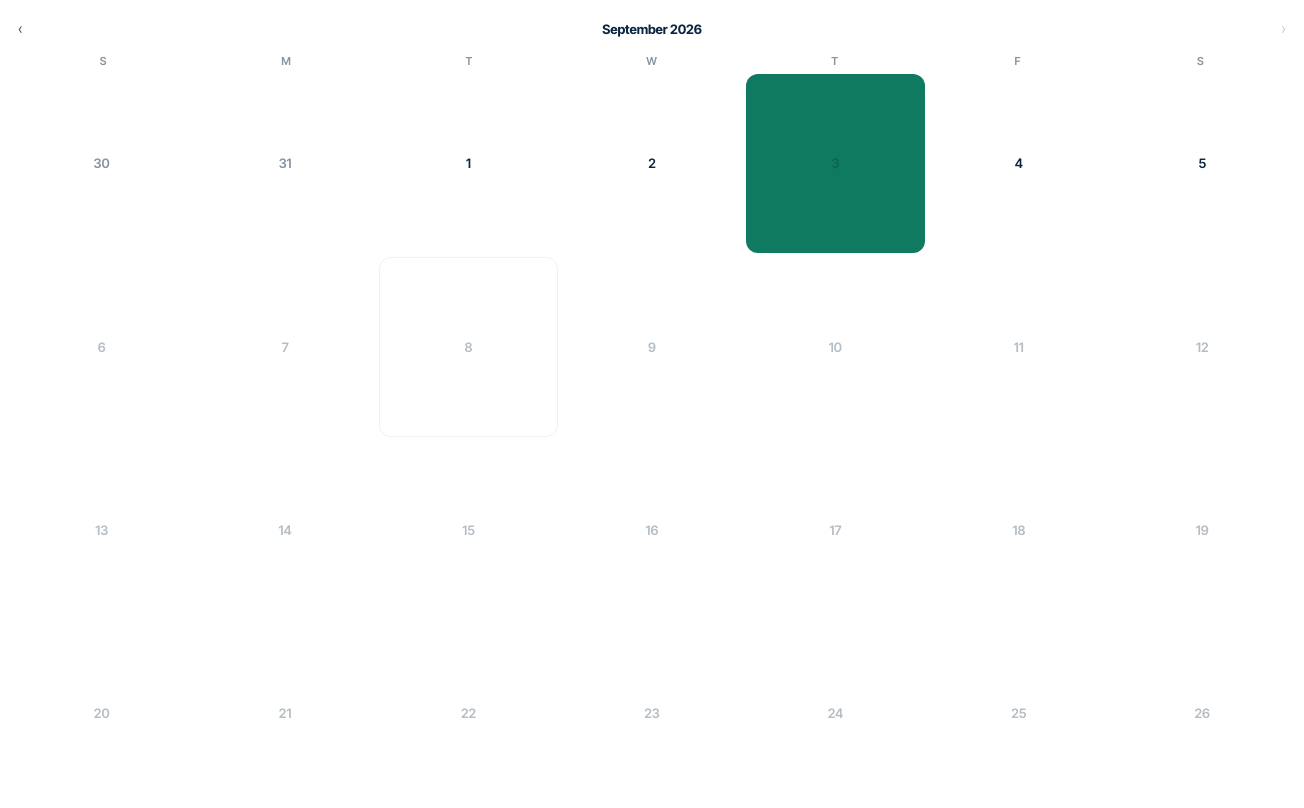
Test: Calendar › steps the visible month backward and forward
The width and height of the screenshot is (1304, 808).
Click the button named "Previous month" at (20, 29), box [12,12,29,46]
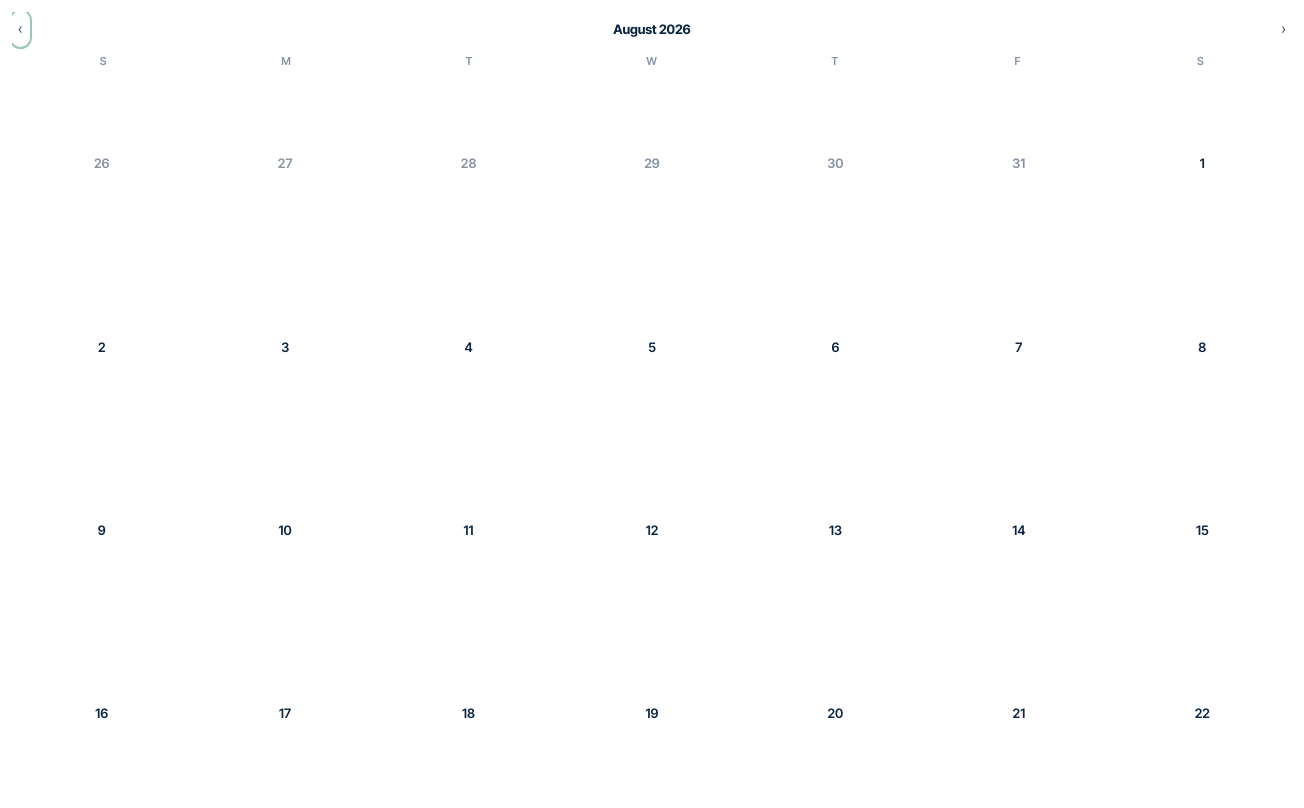
Now the text "August 2026" is shown, box [613,20,691,38]
Click the button named "Next month" at (1284, 29), box [1275,12,1292,46]
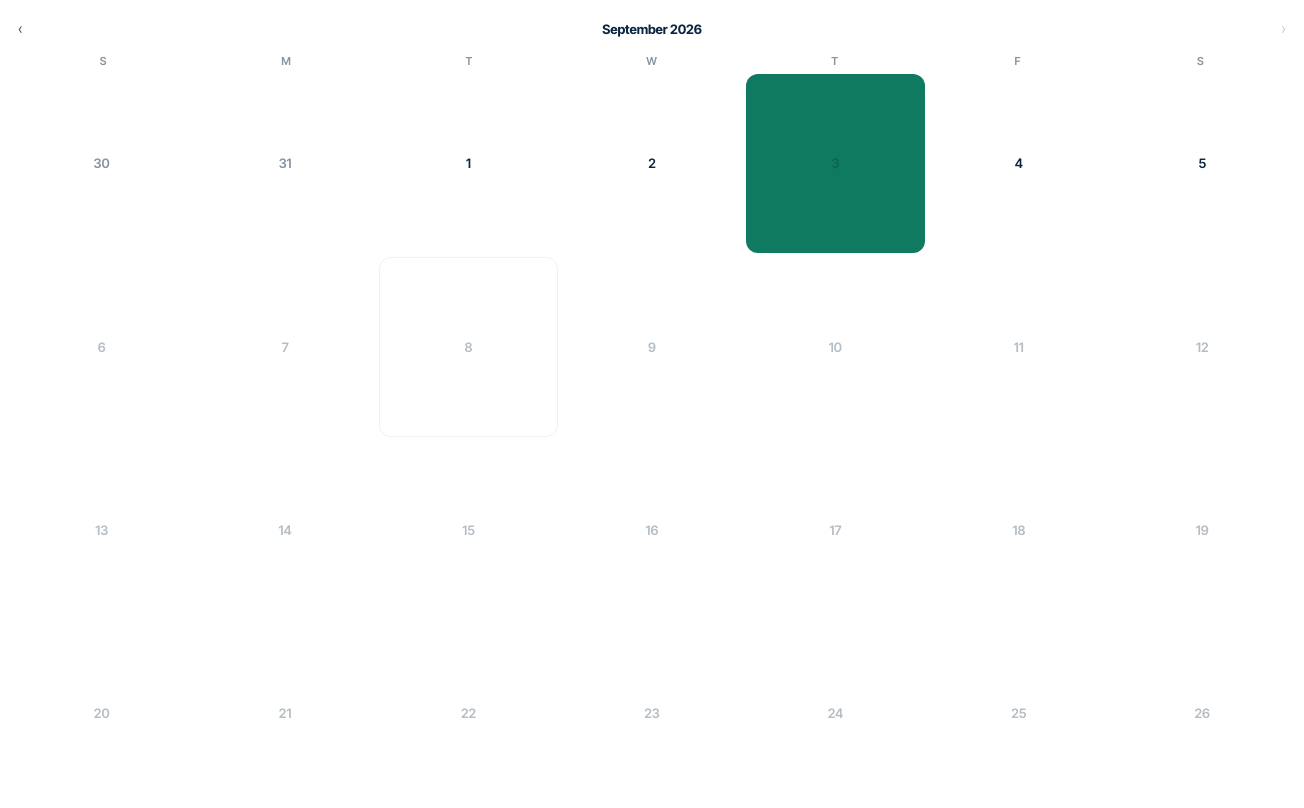
Now the text "September 2026" is shown, box [602,20,702,38]
